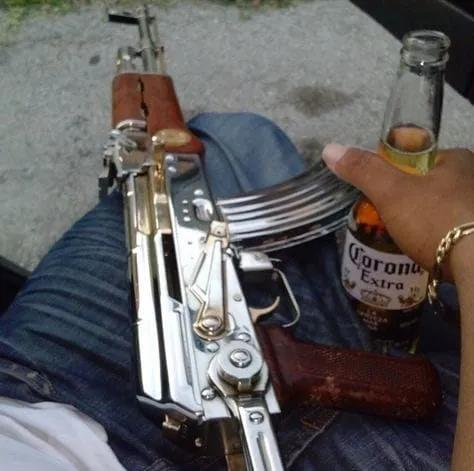larga: (97, 3, 443, 471)
